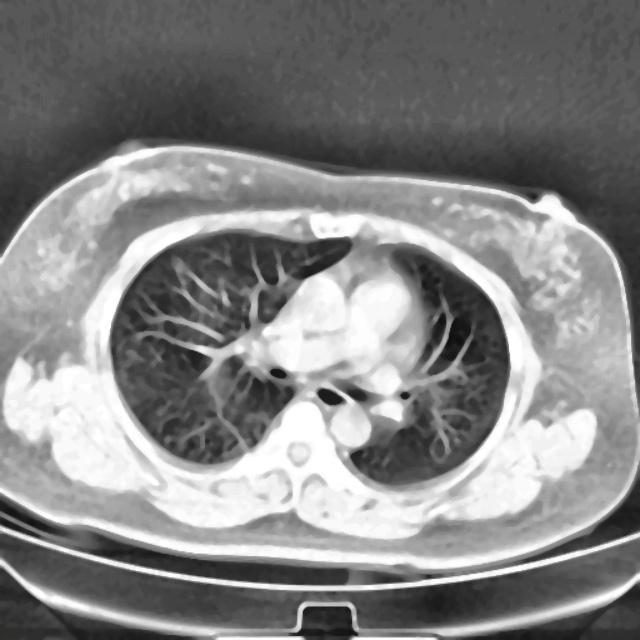covid: (1, 141, 636, 573)
